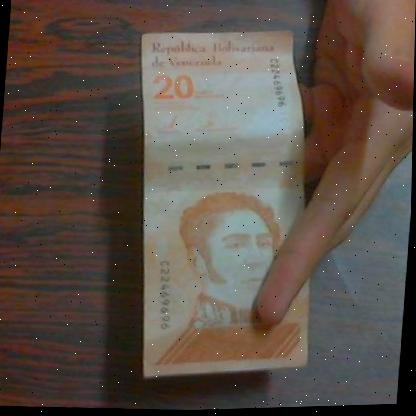twenty-front-vef: (117, 26, 329, 388)
